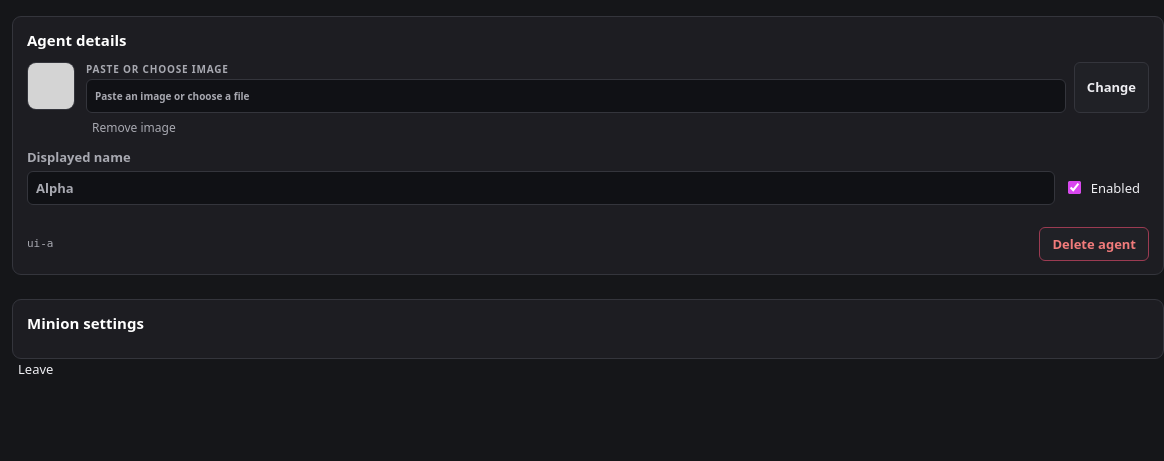
Test: does not copy a name accepted by PATCH into an unrelated identity update after PUT failed
Replace the text in the field labelled "Displayed name" with "Beta" at (541, 188), box 27,171 -> 1055,205
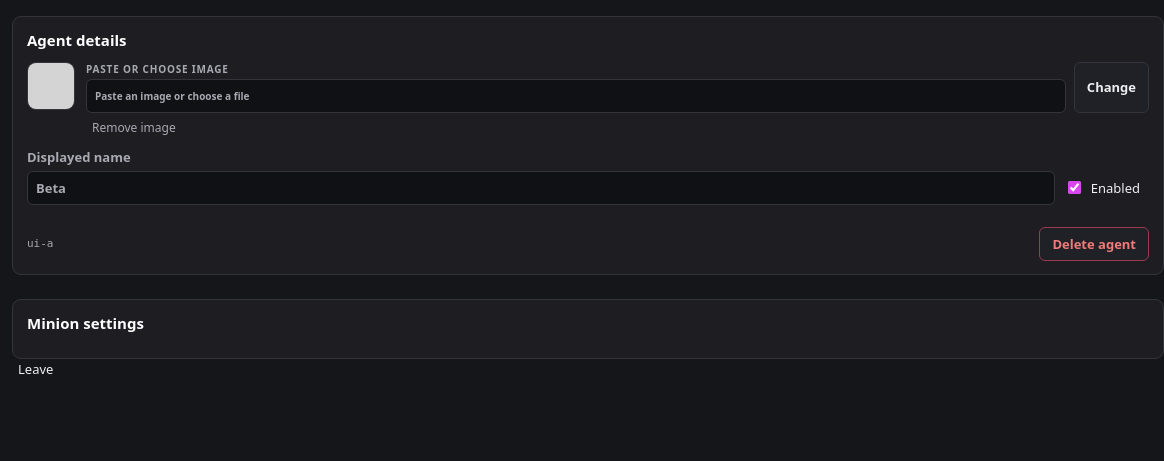
Leave the field labelled "Displayed name", box 27,171 -> 1055,205
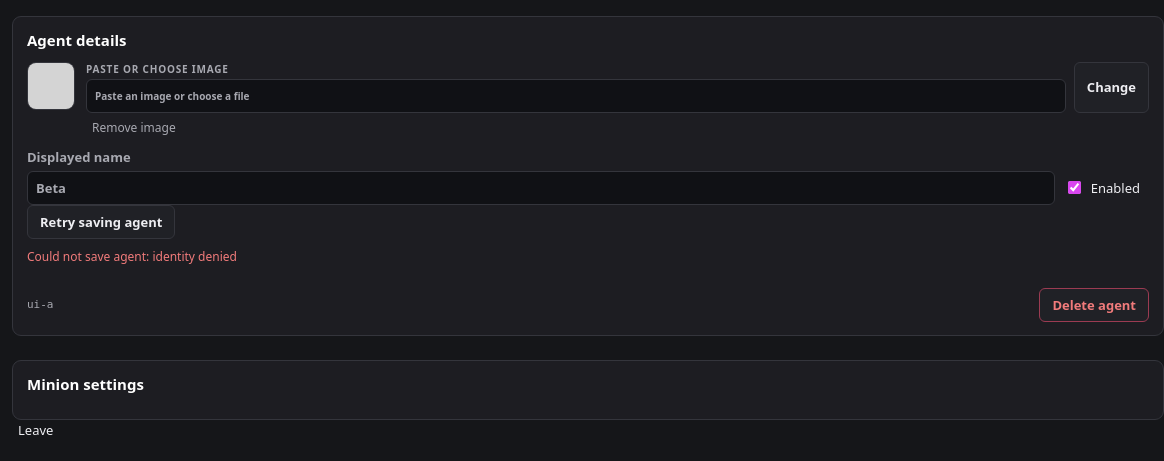
Check: the text "Could not save agent: identity denied" is shown, box 27,248 -> 237,265
Click the button "Remove image" at (134, 128), box 86,119 -> 182,138
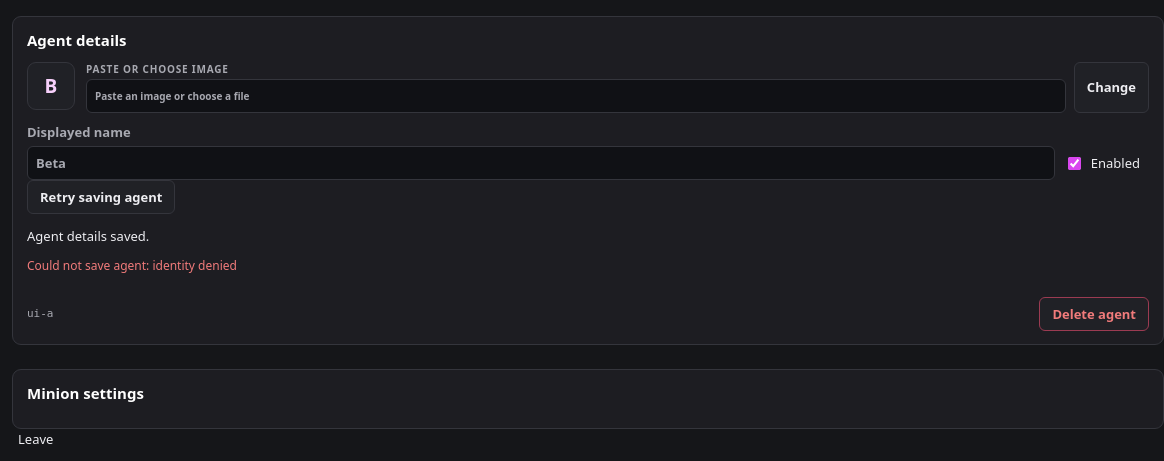
Check: the text "Agent details saved." is shown, box 27,227 -> 149,245
Click the button "Retry saving agent" at (101, 197), box 27,180 -> 175,214
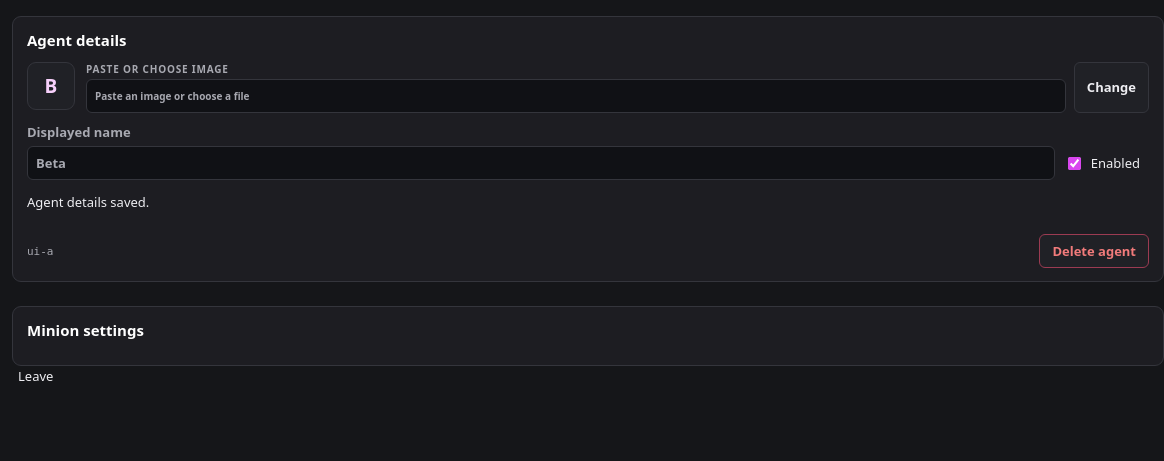
Check: the button "Retry saving agent" is gone
